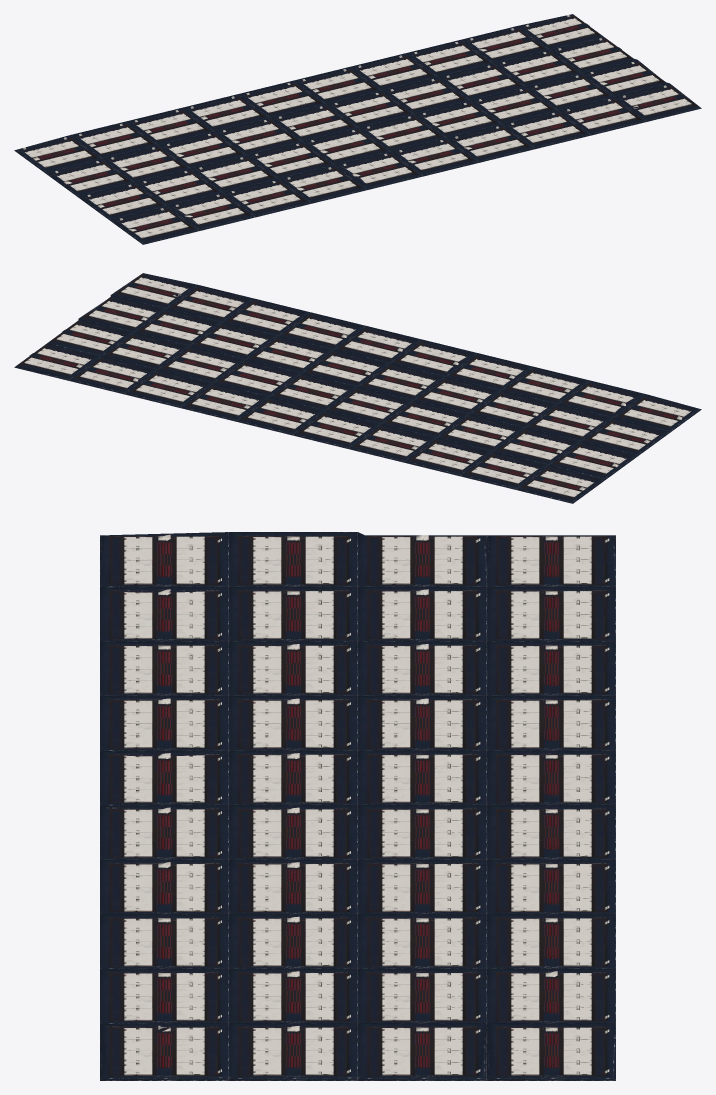
Rendered from floor-panel.glb.
The picture shows the model from 3 angles, top to bottom: view 1: azimuth 30°, elevation 25°; view 2: azimuth 150°, elevation 25°; view 3: azimuth 270°, elevation 25°; orthographic projection. The views are drawn at different scales.
Visible parts, largest first — view 1: SciFi_Floor_Panel01_low_M_Walkway_SP_0; view 2: SciFi_Floor_Panel01_low_M_Walkway_SP_0; view 3: SciFi_Floor_Panel01_low_M_Walkway_SP_0.
Boxes of the visible parts, bbox=[...] form: SciFi_Floor_Panel01_low_M_Walkway_SP_0: bbox=[14, 14, 701, 244]; SciFi_Floor_Panel01_low_M_Walkway_SP_0: bbox=[14, 273, 701, 503]; SciFi_Floor_Panel01_low_M_Walkway_SP_0: bbox=[100, 532, 615, 1080].
Bounding box in the file's own units: 20 × 0.0806 × 8.
Materials: 1 (1 with a texture image).
